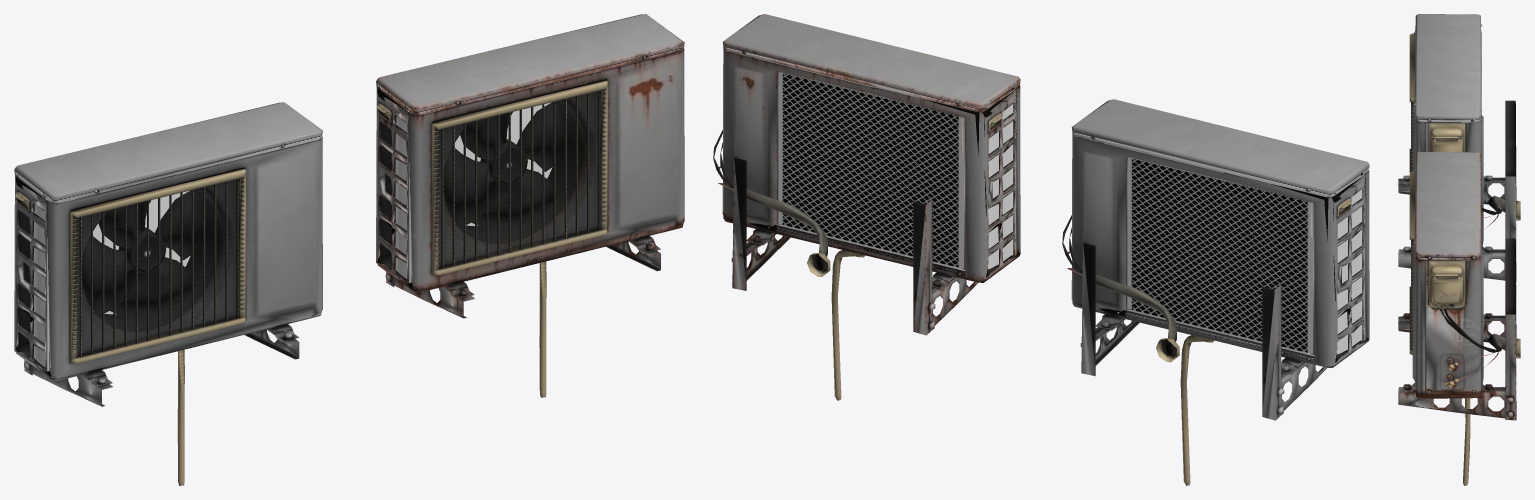
Rendered from exterior_aircon_unit.glb.
3 renders of one model, left to right at view 1: azimuth 30°, elevation 25°; view 2: azimuth 150°, elevation 25°; view 3: azimuth 270°, elevation 25°, orthographic. The views are drawn at different scales.
Parts seen in each view (by area): view 1: exterior_aircon_unit_rusted, exterior_aircon_unit; view 2: exterior_aircon_unit_rusted, exterior_aircon_unit; view 3: exterior_aircon_unit_rusted, exterior_aircon_unit.
Part boxes in pixels (<box>): exterior_aircon_unit_rusted: <box>376,14,684,397</box>; exterior_aircon_unit: <box>14,102,322,485</box>; exterior_aircon_unit_rusted: <box>713,14,1020,400</box>; exterior_aircon_unit: <box>1062,99,1369,485</box>; exterior_aircon_unit_rusted: <box>1398,151,1520,485</box>; exterior_aircon_unit: <box>1398,14,1520,282</box>.
Size of the model in its own units: 1.8 by 0.9279 by 0.3742.
4 materials, 4 textured.
